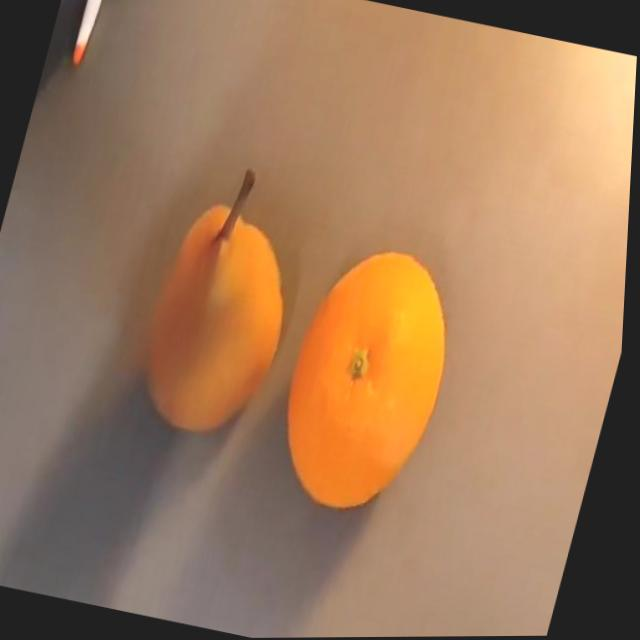Orange: (264, 236, 475, 524)
